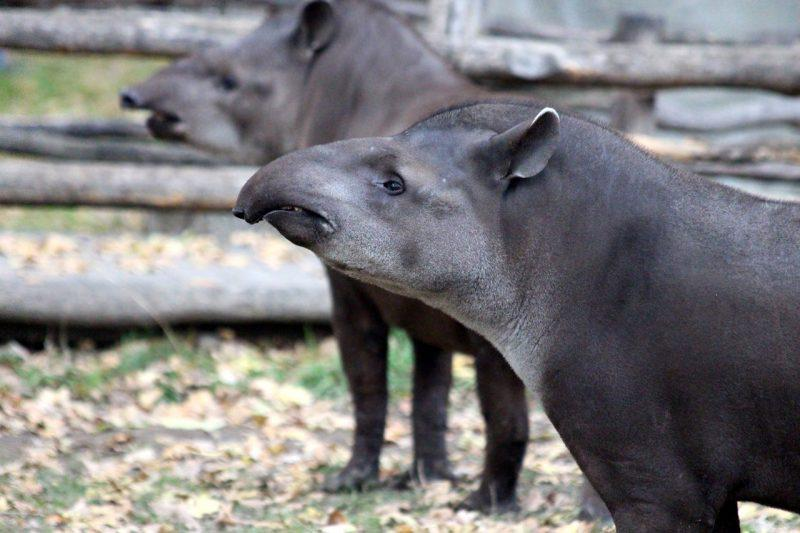Anta: (227, 95, 793, 524), (107, 4, 533, 504)
